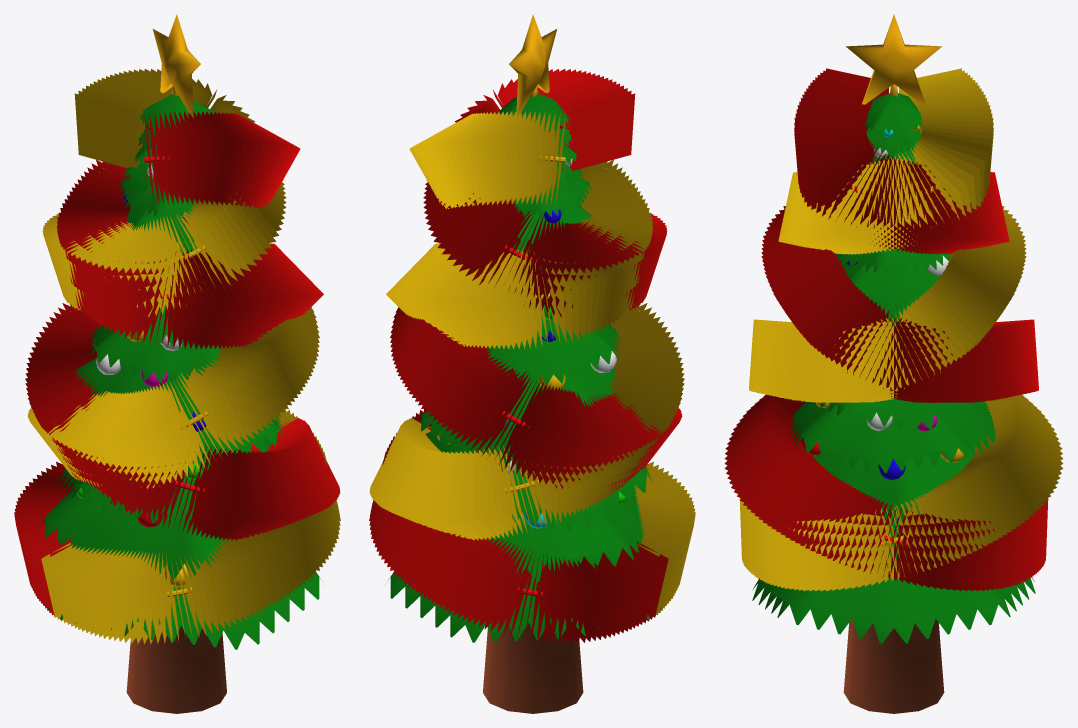
The model's file is SM_ChristmasTree.glb.
3 renders of one model, left to right at view 1: azimuth 30°, elevation 25°; view 2: azimuth 150°, elevation 25°; view 3: azimuth 270°, elevation 25°, orthographic.
Parts seen in each view (by area): view 1: SM_ChristmasTree; view 2: SM_ChristmasTree; view 3: SM_ChristmasTree.
Boxes of the visible parts, x1,y1,x2,y2 form: SM_ChristmasTree: [14, 14, 340, 713]; SM_ChristmasTree: [369, 14, 695, 713]; SM_ChristmasTree: [724, 14, 1063, 713].
Size of the model in its own units: 2.28 by 5.27 by 2.39.
Materials: 15 (2 with a texture image).
